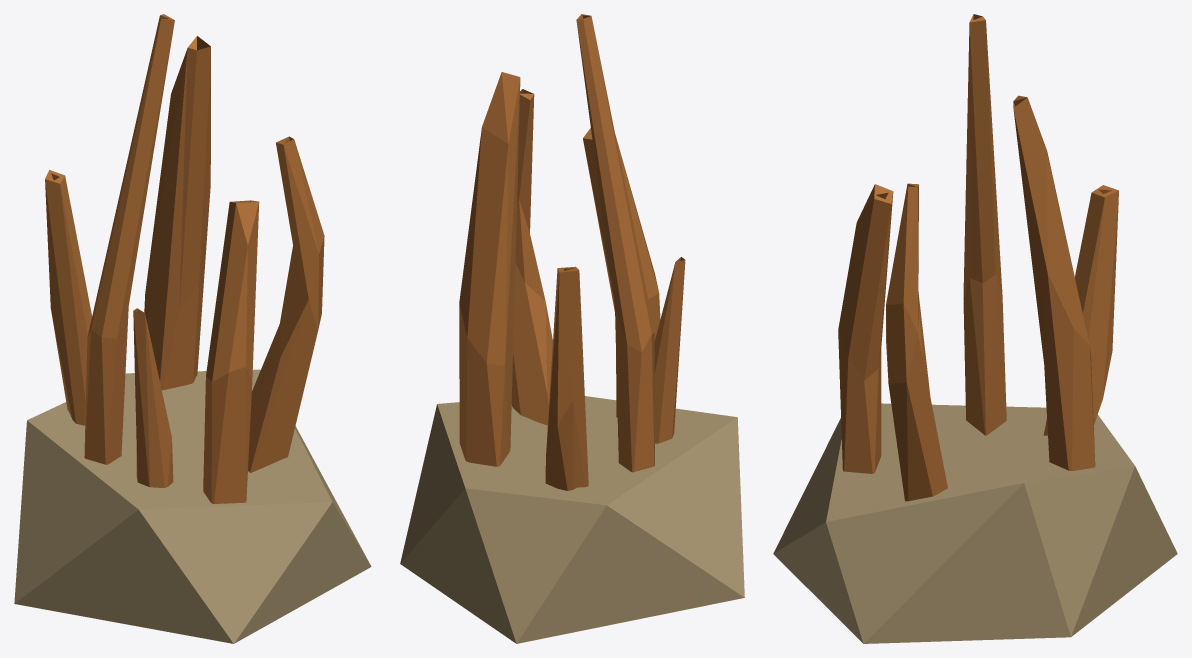
The model's file is orange_coral_textured.fbx.
3 views of the same model, side by side, from view 1: azimuth 30°, elevation 25°; view 2: azimuth 150°, elevation 25°; view 3: azimuth 270°, elevation 25° (orthographic).
Parts seen in each view (by area): view 1: orange coral; view 2: orange coral; view 3: orange coral.
Part boxes in pixels (box(x1,y1,x2,y2)): orange coral: box(14, 14, 371, 643); orange coral: box(400, 14, 744, 643); orange coral: box(773, 14, 1177, 643).
Size of the model in its own units: 187 by 319 by 212.
